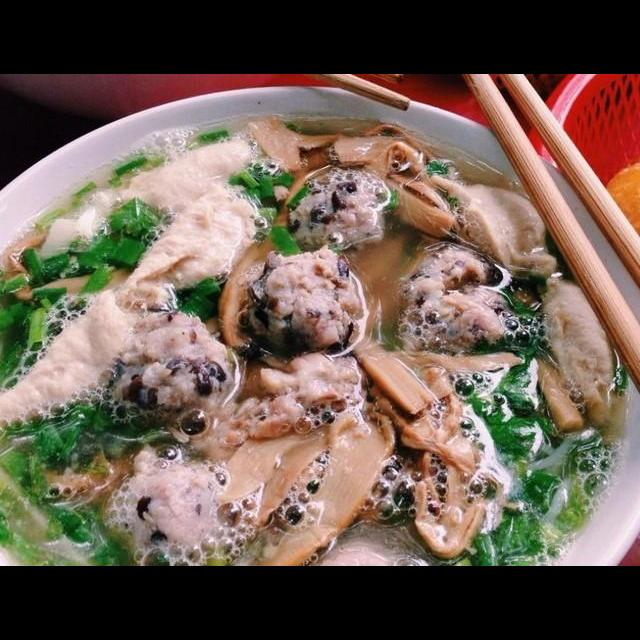vien moc: (391, 233, 528, 369), (98, 433, 237, 562), (103, 307, 244, 427), (241, 241, 375, 357), (279, 161, 394, 254)
